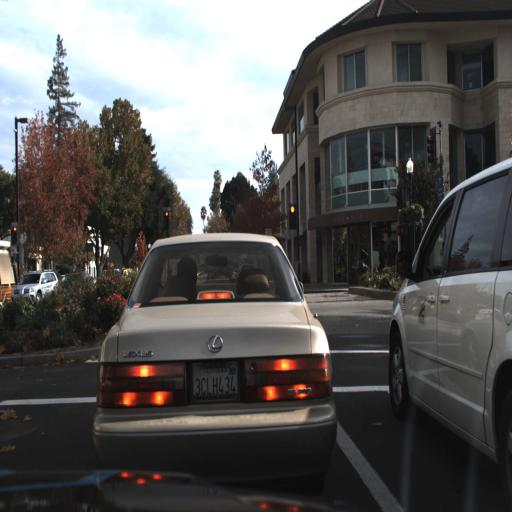car: (87, 228, 337, 476), (383, 155, 511, 473), (13, 268, 60, 305)
trafficLight-Red: (289, 204, 297, 230), (10, 224, 18, 248), (163, 208, 170, 231)
